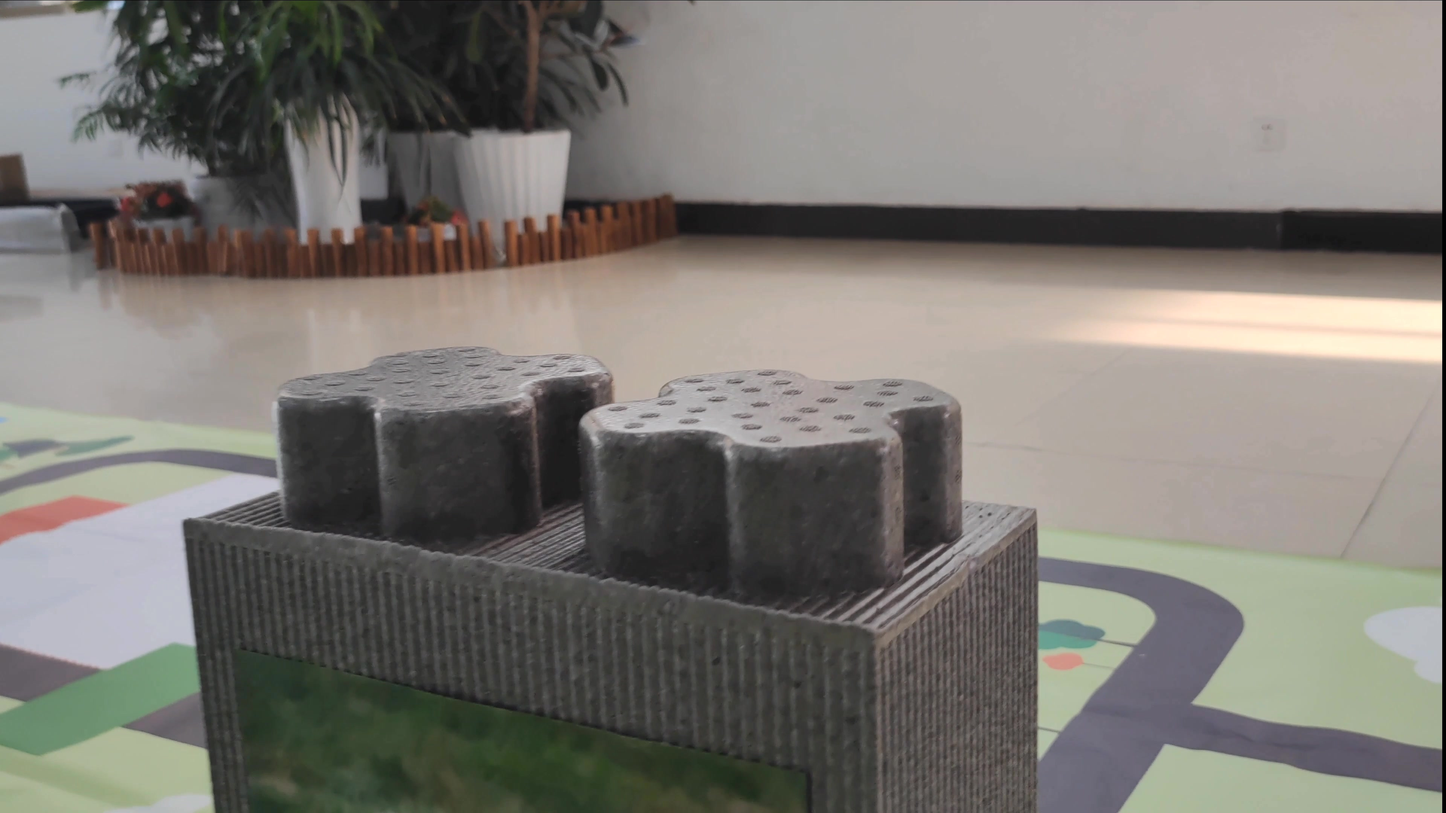panda: (249, 671, 763, 813)
